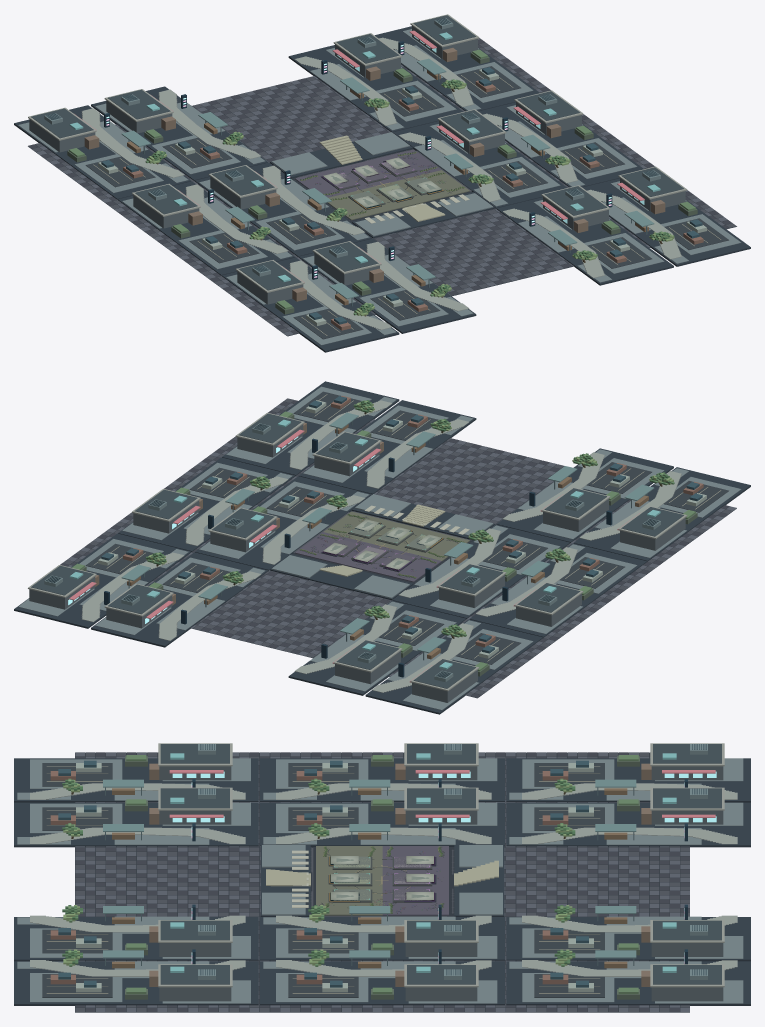
The model's file is metropolis.glb.
3 views of the same model, one above another, from view 1: azimuth 30°, elevation 25°; view 2: azimuth 150°, elevation 25°; view 3: azimuth 270°, elevation 25° (orthographic). The views are drawn at different scales.
Parts seen in each view (by area): view 1: 24_Continuous_Outer_Floor_rock, 24_Continuous_Outer_Floor_rock2, 24_Continuous_Outer_Floor_rock3, 24_Outer_Floor_Mortar, Decorated_Halves_With_Six_Grounded_Stone_Bases, Approach_Flanking_Terraces, Landscape_Terrain_Base__East_0_1, Landscape_Terrain_Base__East_0_-1, Landscape_Terrain_Base__East_1_1, Landscape_Terrain_Base__East_0_0, Landscape_Terrain_Base__East_1_-1, Landscape_Terrain_Base__East_1_0 (+62 smaller); view 2: 24_Continuous_Outer_Floor_rock2, 24_Continuous_Outer_Floor_rock, 24_Continuous_Outer_Floor_rock3, 24_Outer_Floor_Mortar, Decorated_Halves_With_Six_Grounded_Stone_Bases, Approach_Flanking_Terraces, Landscape_Terrain_Base__East_0_-1, Landscape_Terrain_Base__East_0_1, Landscape_Terrain_Base__East_1_-1, Landscape_Terrain_Base__East_0_0, Landscape_Terrain_Base__East_1_1, Approach_Terrain (+68 smaller); view 3: 24_Continuous_Outer_Floor_rock2, 24_Continuous_Outer_Floor_rock3, 24_Continuous_Outer_Floor_rock, 24_Outer_Floor_Mortar, Decorated_Halves_With_Six_Grounded_Stone_Bases, Approach_Flanking_Terraces, Landscape_Terrain_Base__West_0_-1, Landscape_Terrain_Base__West_0_1, Landscape_Terrain_Base__East_1_-1, Landscape_Terrain_Base__East_1_0, Landscape_Terrain_Base__East_1_1, Landscape_Terrain_Base__West_1_-1 (+78 smaller).
Part boxes in pixels (x1=…): 24_Continuous_Outer_Floor_rock: x1=28, y1=39, x2=731, y2=333; 24_Continuous_Outer_Floor_rock2: x1=32, y1=42, x2=736, y2=332; 24_Continuous_Outer_Floor_rock3: x1=36, y1=38, x2=727, y2=335; 24_Outer_Floor_Mortar: x1=28, y1=39, x2=736, y2=336; Decorated_Halves_With_Six_Grounded_Stone_Bases: x1=295, y1=149, x2=469, y2=220; Approach_Flanking_Terraces: x1=271, y1=132, x2=493, y2=236; Landscape_Terrain_Base__East_0_1: x1=496, y1=197, x2=673, y2=285; Landscape_Terrain_Base__East_0_-1: x1=288, y1=45, x2=463, y2=132; Landscape_Terrain_Base__East_1_1: x1=582, y1=178, x2=750, y2=266; Landscape_Terrain_Base__East_0_0: x1=393, y1=121, x2=566, y2=208; Landscape_Terrain_Base__East_1_-1: x1=375, y1=26, x2=539, y2=111; Landscape_Terrain_Base__East_1_0: x1=478, y1=102, x2=643, y2=187; 24_Continuous_Outer_Floor_rock2: x1=63, y1=398, x2=732, y2=695; 24_Continuous_Outer_Floor_rock: x1=60, y1=400, x2=729, y2=697; 24_Continuous_Outer_Floor_rock3: x1=67, y1=403, x2=736, y2=692; 24_Outer_Floor_Mortar: x1=62, y1=400, x2=736, y2=698; Decorated_Halves_With_Six_Grounded_Stone_Bases: x1=295, y1=511, x2=469, y2=582; Approach_Flanking_Terraces: x1=271, y1=494, x2=493, y2=598; Landscape_Terrain_Base__East_0_-1: x1=91, y1=552, x2=268, y2=647; Landscape_Terrain_Base__East_0_1: x1=299, y1=400, x2=476, y2=494; Landscape_Terrain_Base__East_1_-1: x1=14, y1=533, x2=191, y2=628; Landscape_Terrain_Base__East_0_0: x1=195, y1=476, x2=371, y2=570; Landscape_Terrain_Base__East_1_1: x1=222, y1=381, x2=399, y2=475; Approach_Terrain: x1=270, y1=496, x2=494, y2=600; 24_Continuous_Outer_Floor_rock2: x1=75, y1=752, x2=689, y2=1011; 24_Continuous_Outer_Floor_rock3: x1=75, y1=752, x2=689, y2=1011; 24_Continuous_Outer_Floor_rock: x1=75, y1=752, x2=689, y2=1011; 24_Outer_Floor_Mortar: x1=75, y1=752, x2=689, y2=1012; Decorated_Halves_With_Six_Grounded_Stone_Bases: x1=316, y1=846, x2=448, y2=915; Approach_Flanking_Terraces: x1=262, y1=845, x2=502, y2=915; Landscape_Terrain_Base__West_0_-1: x1=506, y1=802, x2=750, y2=847; Landscape_Terrain_Base__West_0_1: x1=14, y1=802, x2=258, y2=847; Landscape_Terrain_Base__East_1_-1: x1=506, y1=961, x2=750, y2=1005; Landscape_Terrain_Base__East_1_0: x1=260, y1=961, x2=504, y2=1005; Landscape_Terrain_Base__East_1_1: x1=14, y1=961, x2=258, y2=1005; Landscape_Terrain_Base__West_1_-1: x1=506, y1=758, x2=750, y2=802.
Bounding box in the file's own units: 48 × 2.31 × 57.5.
Materials: 42 (1 with a texture image).
